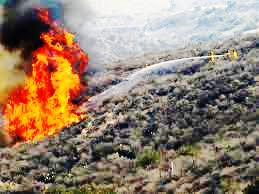fire: (0, 23, 95, 143)
